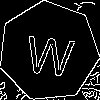W: (24, 26, 77, 78)
